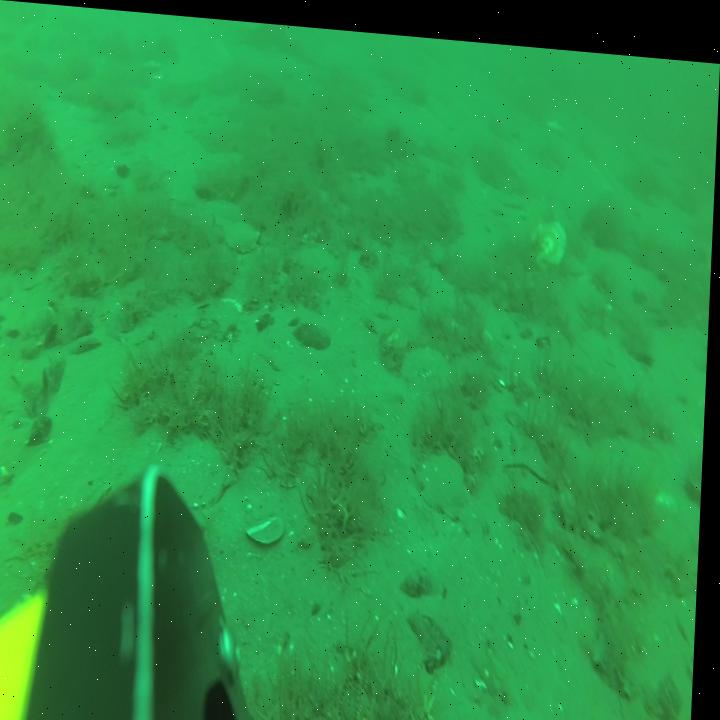scallop: (173, 432, 244, 503), (423, 444, 476, 504), (530, 207, 567, 258), (225, 214, 263, 250), (550, 107, 566, 122)
